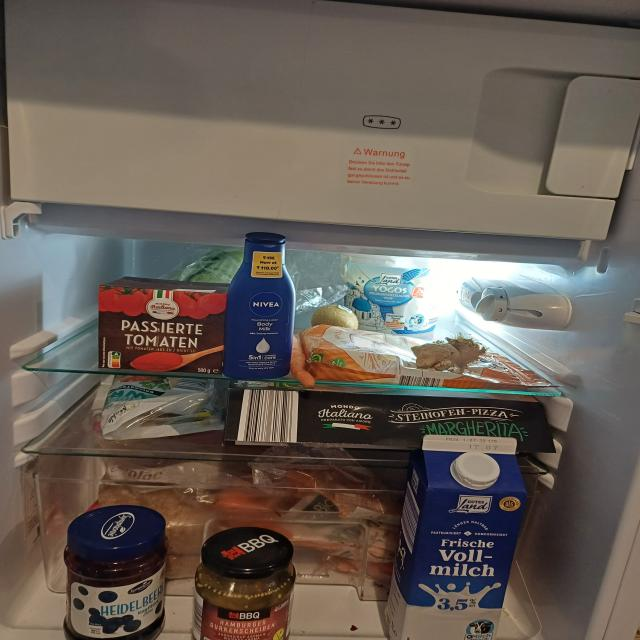Body Moisturizer: (230, 230, 296, 378)
Cheese: (291, 322, 542, 395)
Ginger: (413, 336, 487, 376)
Jam: (56, 506, 174, 640)
Milk: (379, 428, 530, 640)
Pickle: (193, 526, 294, 640)
Pizza: (228, 373, 560, 462)
Plastic bag: (88, 459, 221, 566)
Tomato Puree: (99, 273, 227, 374)
Tortilla: (93, 372, 228, 438)
Yogurt: (342, 251, 451, 336)
carrots: (221, 459, 509, 570)
kiwi: (312, 300, 356, 331)
